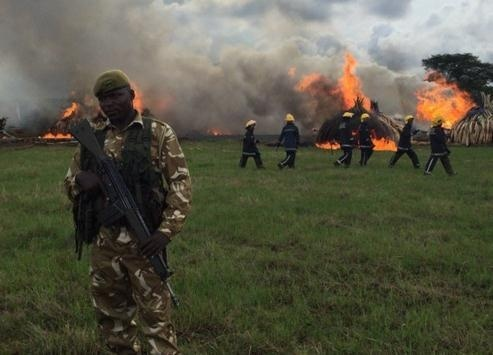fire: (289, 52, 399, 149), (414, 70, 475, 126), (39, 98, 77, 140)
